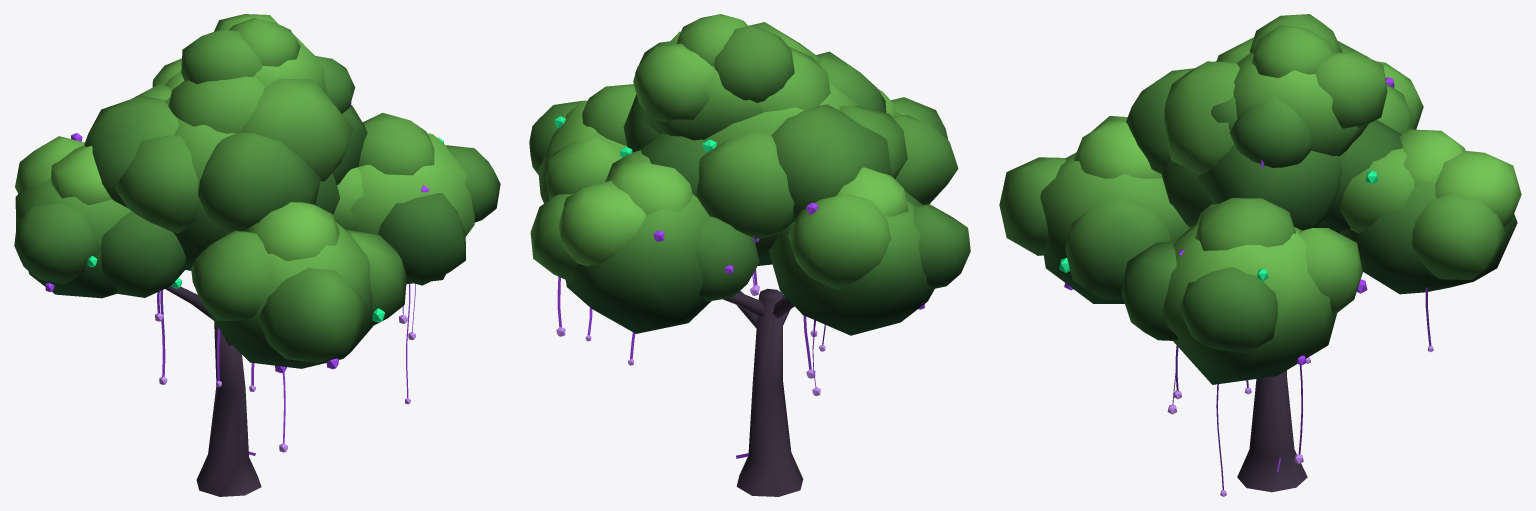
File: SM_PandoraTree_Oak_B.fbx
3 renders of one model, left to right at view 1: azimuth 30°, elevation 25°; view 2: azimuth 150°, elevation 25°; view 3: azimuth 270°, elevation 25°, orthographic. The views are drawn at different scales.
Visible parts, largest first — view 1: SM_PandoraTree_Oak_B; view 2: SM_PandoraTree_Oak_B; view 3: SM_PandoraTree_Oak_B.
Part boxes in pixels (x1,y1,x2,y2): SM_PandoraTree_Oak_B: [14, 14, 500, 496]; SM_PandoraTree_Oak_B: [529, 14, 970, 496]; SM_PandoraTree_Oak_B: [999, 14, 1521, 496].
Size of what is drawn, in the model's own units: 9.55 by 9.22 by 9.3.
